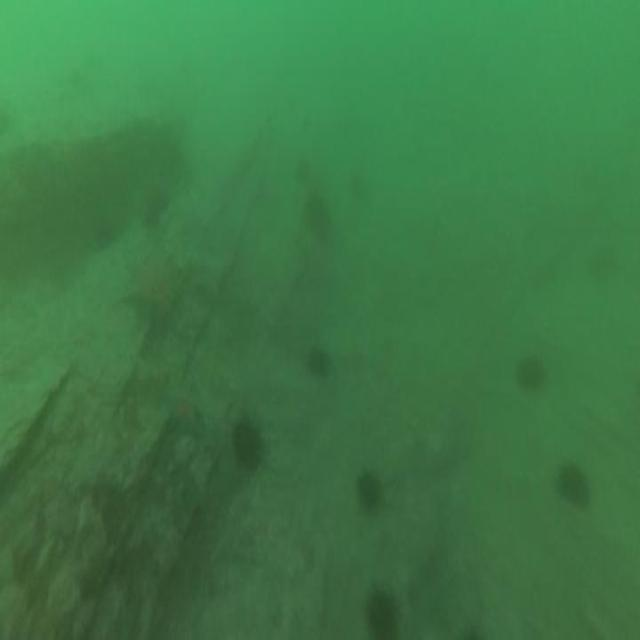echinus: (228, 410, 268, 472), (551, 452, 592, 512), (362, 584, 404, 640), (300, 188, 332, 242), (513, 348, 547, 398), (353, 463, 384, 515), (138, 182, 170, 232), (303, 340, 333, 384), (89, 210, 116, 251), (291, 152, 313, 190)
starfish: (119, 245, 190, 349), (159, 388, 208, 446)
